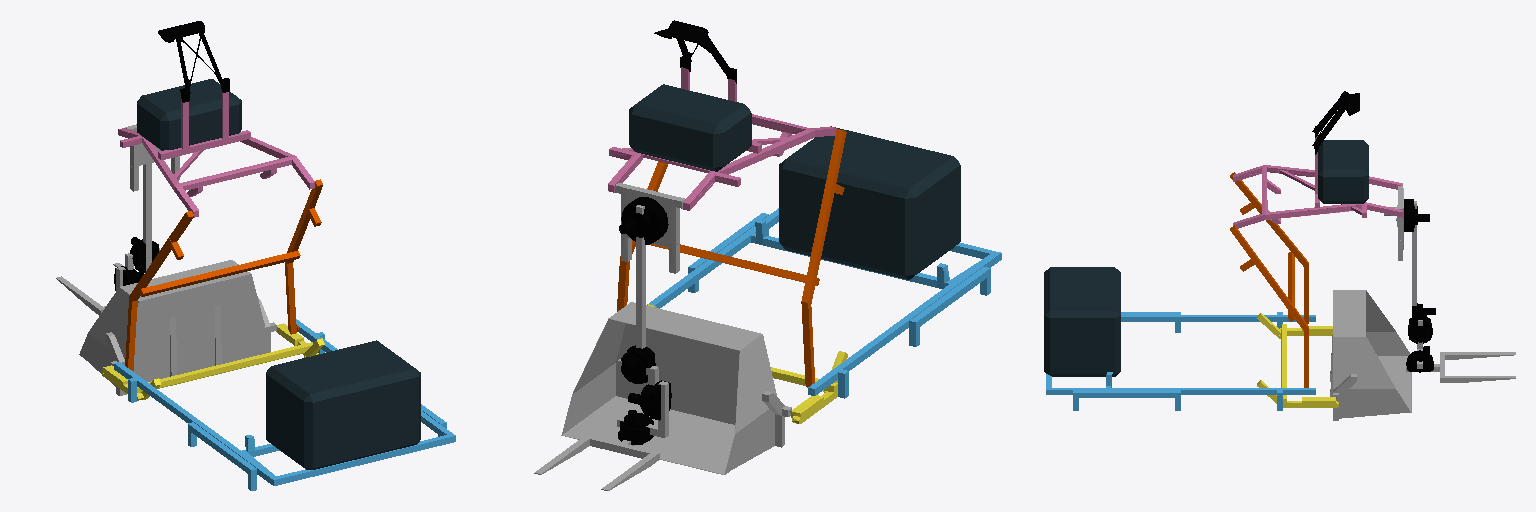
The robot description file, URDF, robot "Excahauler":
<?xml version="1.0"?>
<robot name="Excahauler">
  <link name="base_link">
  </link>
  
  <link name="frame_link">
    <visual>
      <geometry>
        <mesh filename="package://lunatic_exchange/meshes/frame.dae"/>
      </geometry>
    </visual>
  </link>  
  <joint name="drive" type="fixed">
    <origin xyz="0 0 0"/>
    <parent link="base_link"/>
    <child link="frame_link"/>
  </joint>


  <link name="frameBox_link">
    <visual>
      <geometry>
        <mesh filename="package://lunatic_exchange/meshes/frameBox.dae"/>
      </geometry>
    </visual>
  </link>
<joint name="frameBox" type="fixed">
  <origin rpy="0 0 0" xyz="0 0 0"/>
  <parent link="frame_link"/>
  <child link="frameBox_link"/>
</joint>




  <link name="fork_link">
    <visual>
      <geometry>
        <mesh filename="package://lunatic_exchange/meshes/fork.dae"/>
      </geometry>
    </visual>
  </link>  
<joint name="fork" type="revolute">
  <axis xyz="-1 0 0"/>
  <limit effort="1000.0" lower="-1.02" upper="0.17" velocity="0.5"/>
  <origin rpy="0 0 0" xyz="0 0.455 0.150"/>
  <parent link="frame_link"/>
  <child link="fork_link"/>
</joint>


  <link name="dump_link">
    <visual>
      <geometry>
        <mesh filename="package://lunatic_exchange/meshes/dump.dae"/>
      </geometry>
    </visual>
  </link>  
<joint name="dump" type="revolute">
  <axis xyz="1 0 0"/>
  <limit effort="1000.0" lower="-1.40" upper="-0.17" velocity="0.5"/>
  <origin rpy="0 0 0" xyz="0 0.250 0.020"/>
  <parent link="fork_link"/>
  <child link="dump_link"/>
</joint>
  
  
  <link name="boom_link">
    <visual>
      <geometry>
        <mesh filename="package://lunatic_exchange/meshes/boom.dae"/>
      </geometry>
    </visual>
  </link>  
<joint name="boom" type="revolute">
  <axis xyz="-1 0 0"/>
  <limit effort="1000.0" lower="-1.01" upper="0.91" velocity="0.5"/>
  <origin rpy="0 0 0" xyz="0 0.570 0.215"/>
  <parent link="frame_link"/>
  <child link="boom_link"/>
</joint>


  <link name="stick_link">
    <visual>
      <geometry>
        <mesh filename="package://lunatic_exchange/meshes/stick.dae"/>
      </geometry>
    </visual>
  </link>
<joint name="stick" type="revolute">
  <axis xyz="-1 0 0"/>
  <limit effort="1000.0" lower="-0.56" upper="1.05" velocity="0.5"/>
  <origin rpy="0 0 0" xyz="0 -0.312 0.750"/>
  <parent link="boom_link"/>
  <child link="stick_link"/>
</joint>


  <link name="stickBox_link">
    <visual>
      <geometry>
        <mesh filename="package://lunatic_exchange/meshes/stickBox.dae"/>
      </geometry>
    </visual>
  </link>
<joint name="stickBox" type="fixed">
  <origin rpy="0 0 0" xyz="0 0 0"/>
  <parent link="stick_link"/>
  <child link="stickBox_link"/>
</joint>
  
  
  
  <link name="stickCamera_link">
    <visual>
      <geometry>
        <mesh filename="package://lunatic_exchange/meshes/stickCamera.dae"/>
      </geometry>
    </visual>
  </link>
<joint name="stickCamera" type="fixed">
  <origin rpy="0 0 0" xyz="0 0 0"/>
  <parent link="stick_link"/>
  <child link="stickCamera_link"/>
</joint>

  
  
  <link name="tilt_link">
    <visual>
      <geometry>
        <mesh filename="package://lunatic_exchange/meshes/tilt.dae"   />
      </geometry>
    </visual>
  </link>
  
<joint name="tilt" type="revolute">
  <axis xyz="-1 0 0"/>
  <limit effort="1000.0" lower="-1.31" upper="0.91" velocity="0.5"/>
  <origin rpy="0 0 0" xyz="0 0.735 0.012"/>
  <parent link="stick_link"/>
  <child link="tilt_link"/>
</joint>


  
  <link name="arm1_link">
    <visual>
      <geometry>
        <mesh filename="package://lunatic_exchange/meshes/arm1.dae"   />
      </geometry>
    </visual>
  </link>
  
<joint name="arm1" type="revolute">
  <axis xyz="0 1 0"/>
  <limit effort="1000.0" lower="-1.5" upper="1.5" velocity="0.5"/>
  <origin rpy="0 0 0" xyz="0 0.0375 -0.075"/>
  <parent link="tilt_link"/>
  <child link="arm1_link"/>
</joint>


  <link name="arm2_link">
    <visual>
      <geometry>
        <mesh filename="package://lunatic_exchange/meshes/arm2.dae"   />
      </geometry>
    </visual>
  </link>
  
<joint name="arm2" type="revolute">
  <axis xyz="0 1 0"/>
  <limit effort="1000.0" lower="-1.5" upper="1.5" velocity="0.5"/>
  <origin rpy="0 0 0" xyz="0 0.0375 -0.5"/>
  <parent link="arm1_link"/>
  <child link="arm2_link"/>
</joint>


  <link name="arm3_link">
    <visual>
      <geometry>
        <mesh filename="package://lunatic_exchange/meshes/arm3.dae"   />
      </geometry>
    </visual>
  </link>
  
<joint name="arm3" type="revolute">
  <axis xyz="0 1 0"/>
  <limit effort="1000.0" lower="-1.5" upper="1.5" velocity="0.5"/>
  <origin rpy="0 0 -1.5707963267" xyz="-0.075 0.0125 -0.1"/>
  <parent link="arm2_link"/>
  <child link="arm3_link"/>
</joint>


  <link name="arm4_link">
    <visual>
      <geometry>
        <mesh filename="package://lunatic_exchange/meshes/arm4.dae"   />
      </geometry>
    </visual>
  </link>
  
<joint name="arm4" type="revolute">
  <axis xyz="0 0 1"/>
  <limit effort="1000.0" lower="-2" upper="2" velocity="0.5"/>
  <origin rpy="0 0 1.5707963267" xyz="0 0.075 -0.125"/>
  <parent link="arm3_link"/>
  <child link="arm4_link"/>
</joint>


  <link name="forktip_link">
  </link>
  
<joint name="forktip" type="fixed">
  <origin rpy="0 0 0" xyz="0 0.425 -0.01"/>
  <parent link="arm4_link"/>
  <child link="forktip_link"/>
</joint>





    <group name="excahauler_arm">
      <chain base_link="frame_link" tip_link="forktip_link" />
    </group>



  
</robot>

--- What the picture shows (computed from the rendered views, not written in the file) ---
The picture shows the robot from 3 angles, left to right: view 1: azimuth 30°, elevation 25°; view 2: azimuth 150°, elevation 25°; view 3: azimuth 270°, elevation 25°; orthographic projection.
Model Excahauler with 15 links and 14 joints (9 revolute, 5 fixed), rooted at base_link, posed joints at zero except 1 at the middle of their limits (dump = -0.785).
Visible links, largest first — view 1: frameBox_link, dump_link, frame_link, stickBox_link, stick_link, boom_link, fork_link, stickCamera_link, arm1_link, tilt_link; view 2: dump_link, frameBox_link, stickBox_link, frame_link, boom_link, stick_link, tilt_link, arm1_link, arm4_link, arm3_link, stickCamera_link, arm2_link (+1 smaller); view 3: dump_link, frameBox_link, frame_link, stickBox_link, stick_link, boom_link, fork_link, arm4_link, stickCamera_link, tilt_link, arm1_link, arm2_link.
Link boxes in pixels (box(x1,y1,x2,y2)): frameBox_link: box(266, 340, 420, 469); dump_link: box(79, 260, 276, 395); frame_link: box(114, 319, 455, 490); stickBox_link: box(137, 79, 241, 150); stick_link: box(118, 92, 314, 217); boom_link: box(125, 179, 322, 370); fork_link: box(101, 323, 324, 400); stickCamera_link: box(158, 21, 229, 102); arm1_link: box(134, 163, 158, 272); tilt_link: box(125, 124, 179, 191); dump_link: box(561, 302, 791, 474); frameBox_link: box(779, 126, 960, 279); stickBox_link: box(629, 84, 751, 171); frame_link: box(647, 208, 1001, 398); boom_link: box(617, 129, 846, 387); stick_link: box(608, 67, 836, 210); tilt_link: box(615, 183, 685, 273); arm1_link: box(619, 205, 655, 382); arm4_link: box(534, 431, 659, 490); arm3_link: box(617, 380, 671, 437); stickCamera_link: box(654, 20, 736, 83); arm2_link: box(618, 349, 658, 415); dump_link: box(1330, 290, 1411, 420); frameBox_link: box(1044, 267, 1120, 376); frame_link: box(1046, 312, 1315, 410); stickBox_link: box(1318, 140, 1368, 203); stick_link: box(1233, 136, 1402, 228); boom_link: box(1230, 172, 1308, 387); fork_link: box(1257, 313, 1338, 407); arm4_link: box(1406, 352, 1515, 382); stickCamera_link: box(1312, 91, 1359, 154); tilt_link: box(1384, 186, 1413, 260); arm1_link: box(1412, 201, 1429, 330); arm2_link: box(1408, 304, 1435, 344).
Bounding box of the posed robot: 0.8508 × 2.1 × 1.44 m (x, y, z).
13 mesh visuals loaded from 13 distinct referenced files (13 Collada DAE).
